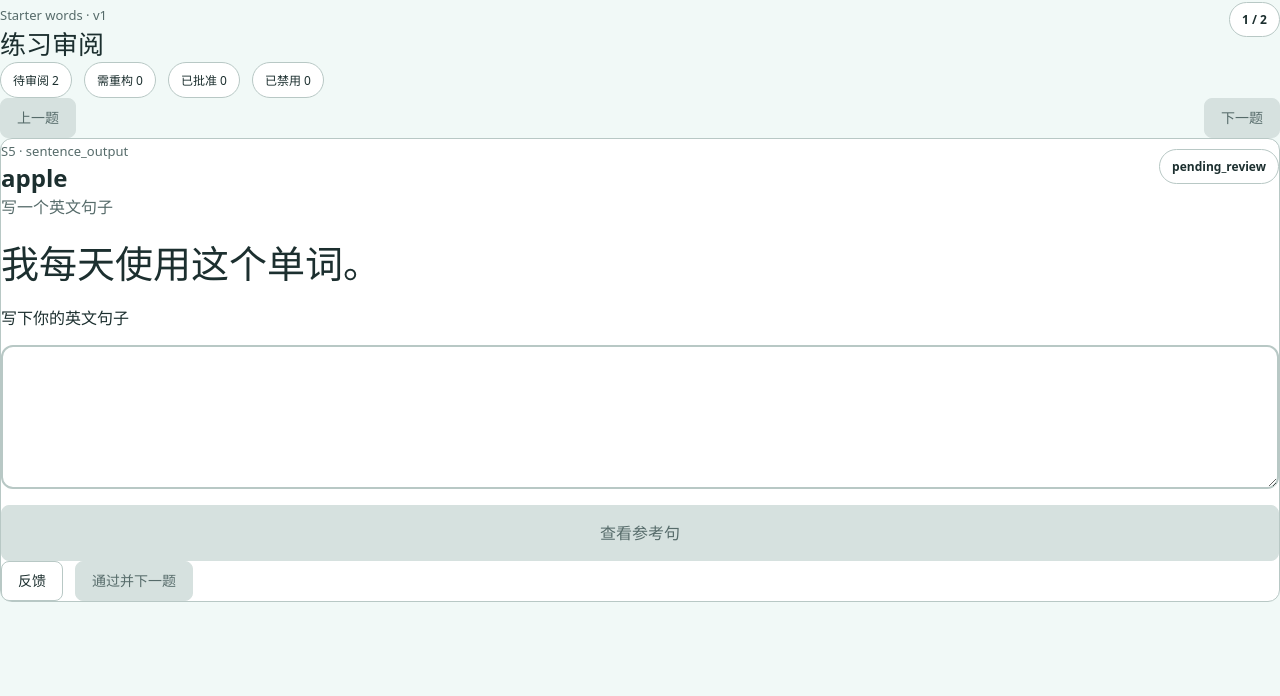
Test: ExerciseReviewPage › keeps S5 preview separate and only enables approval after self-score evaluation
In the text box labelled "写下你的英文句子": (640, 417) [1,345,1279,489], type "I use this word."
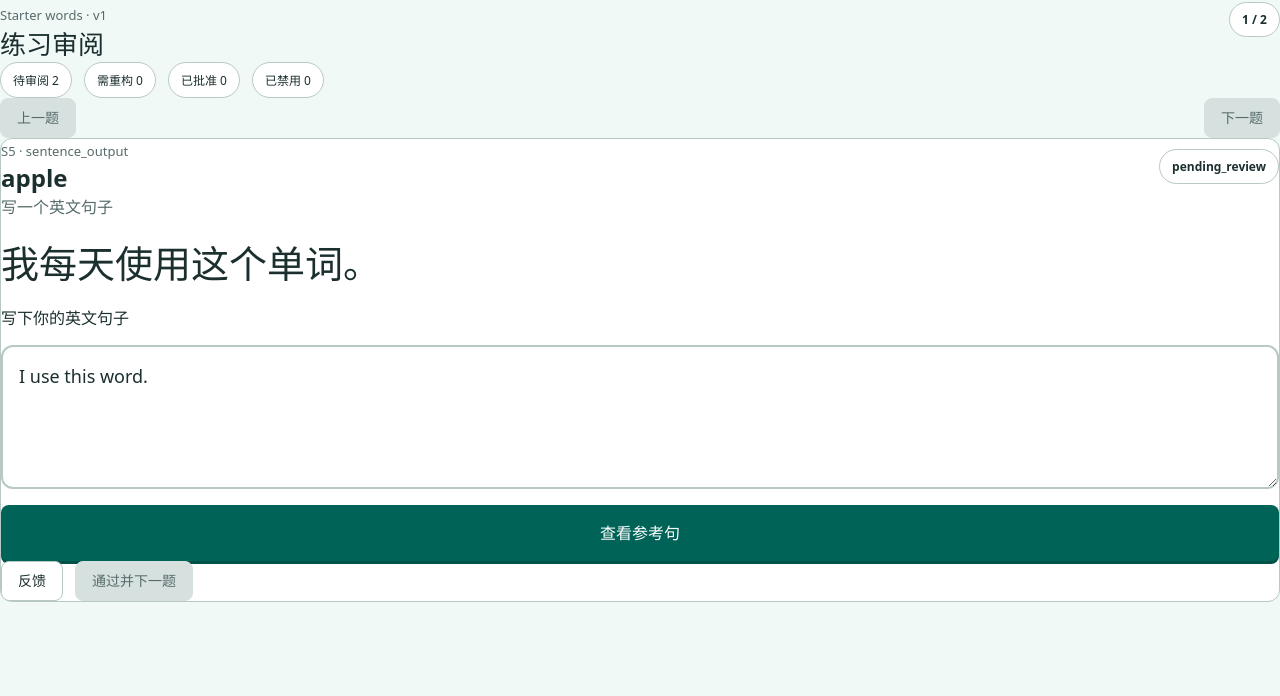
Click the button "查看参考句": (640, 533) [1,505,1279,561]
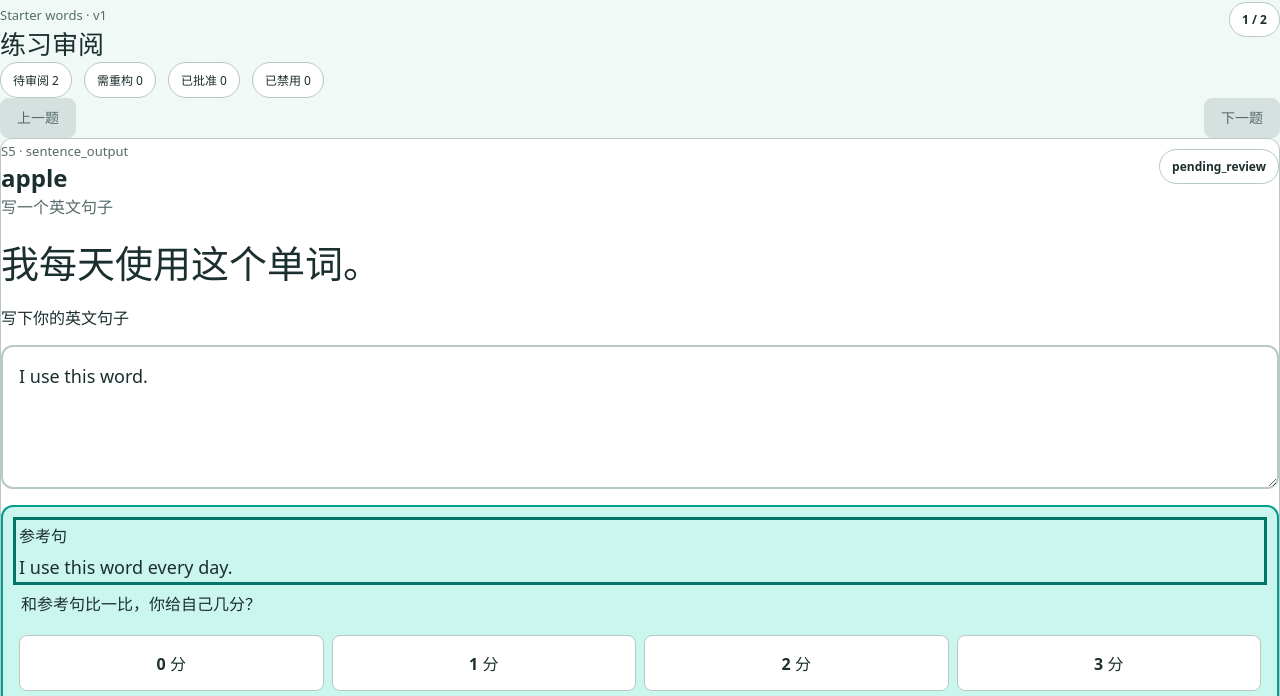
Click the button "2 分": (796, 663) [644,635,948,691]
(page scrolled)
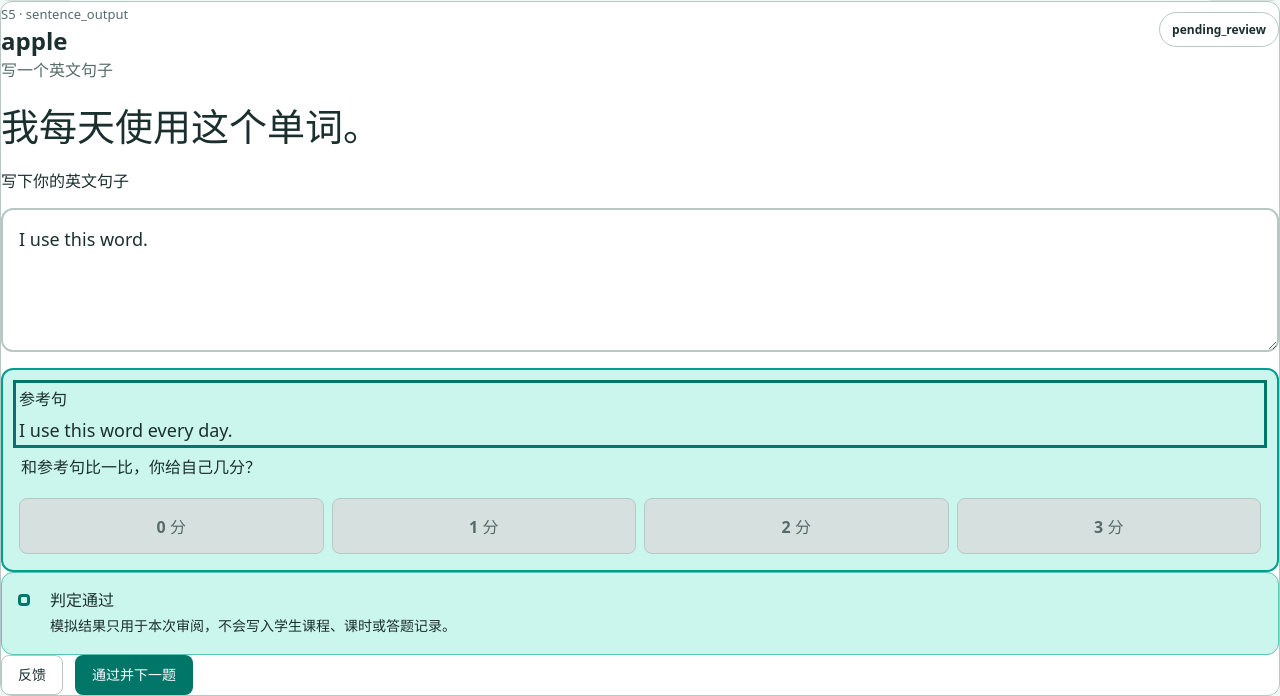
Check: the button "通过并下一题" is enabled, box [75,655,193,695]
